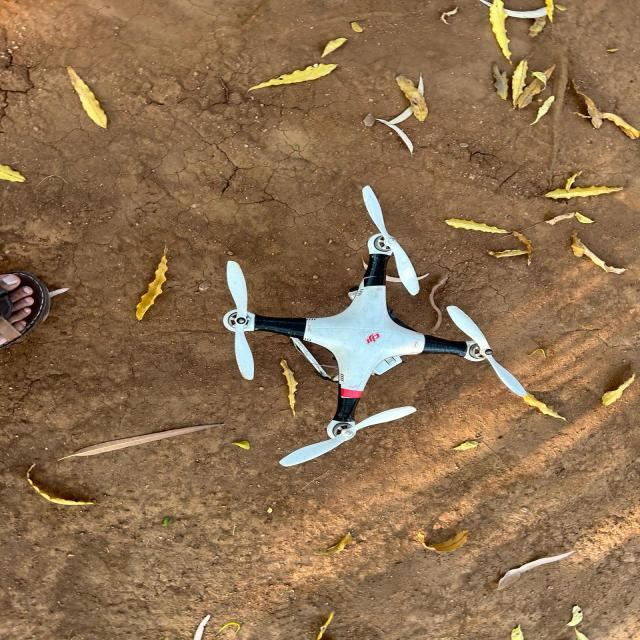drone: (138, 111, 584, 564)
